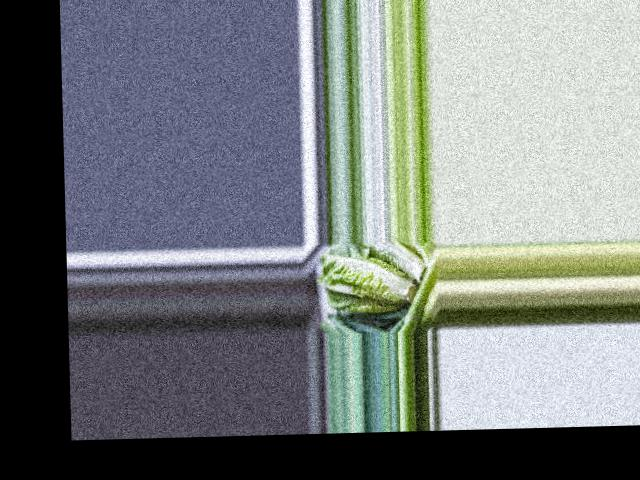lettuce: (318, 251, 418, 315)
